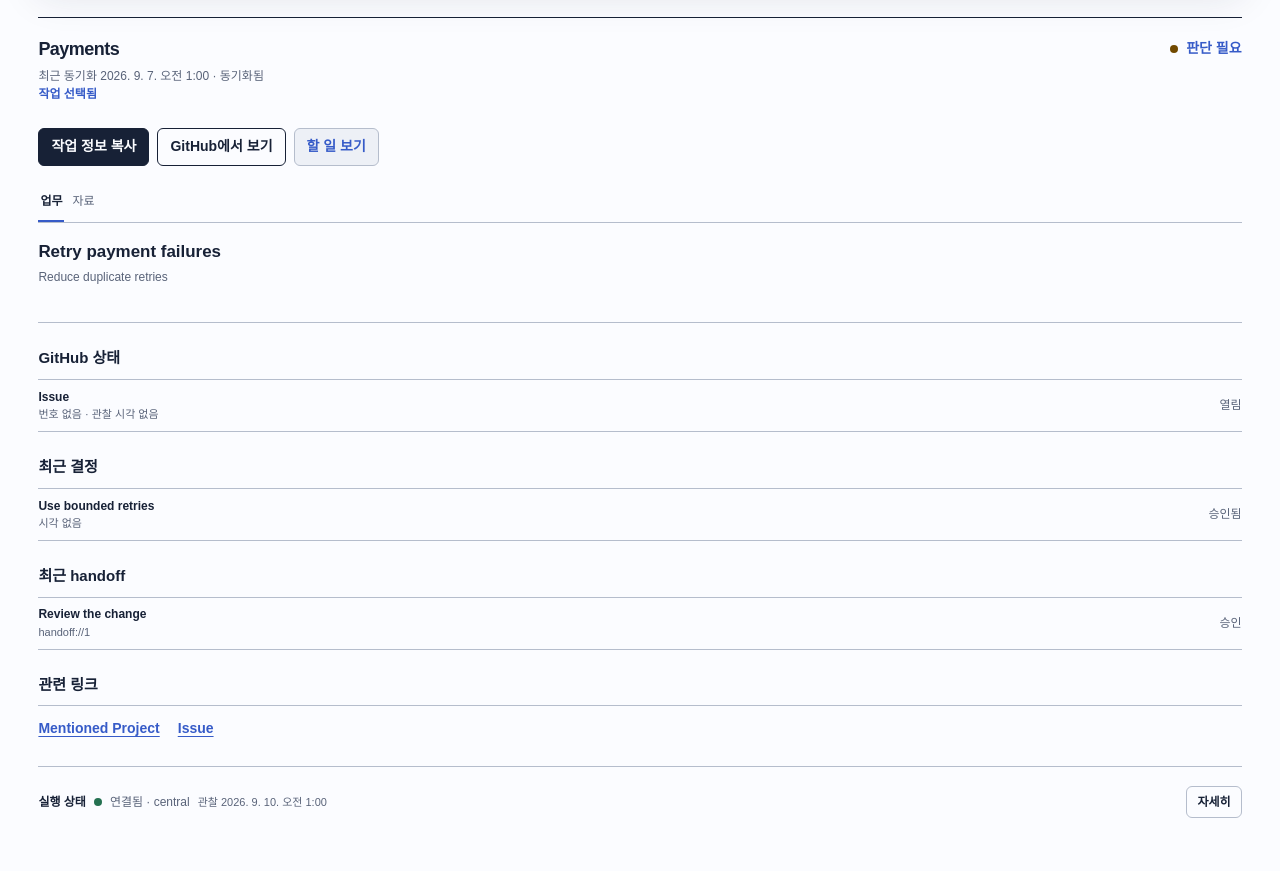
Test: monitor list and detail › does not treat an evidence-only project link as a Project binding
(page scrolled)
Click the button "자세히" at (1214, 802), box [1186, 786, 1242, 818]
(page scrolled)
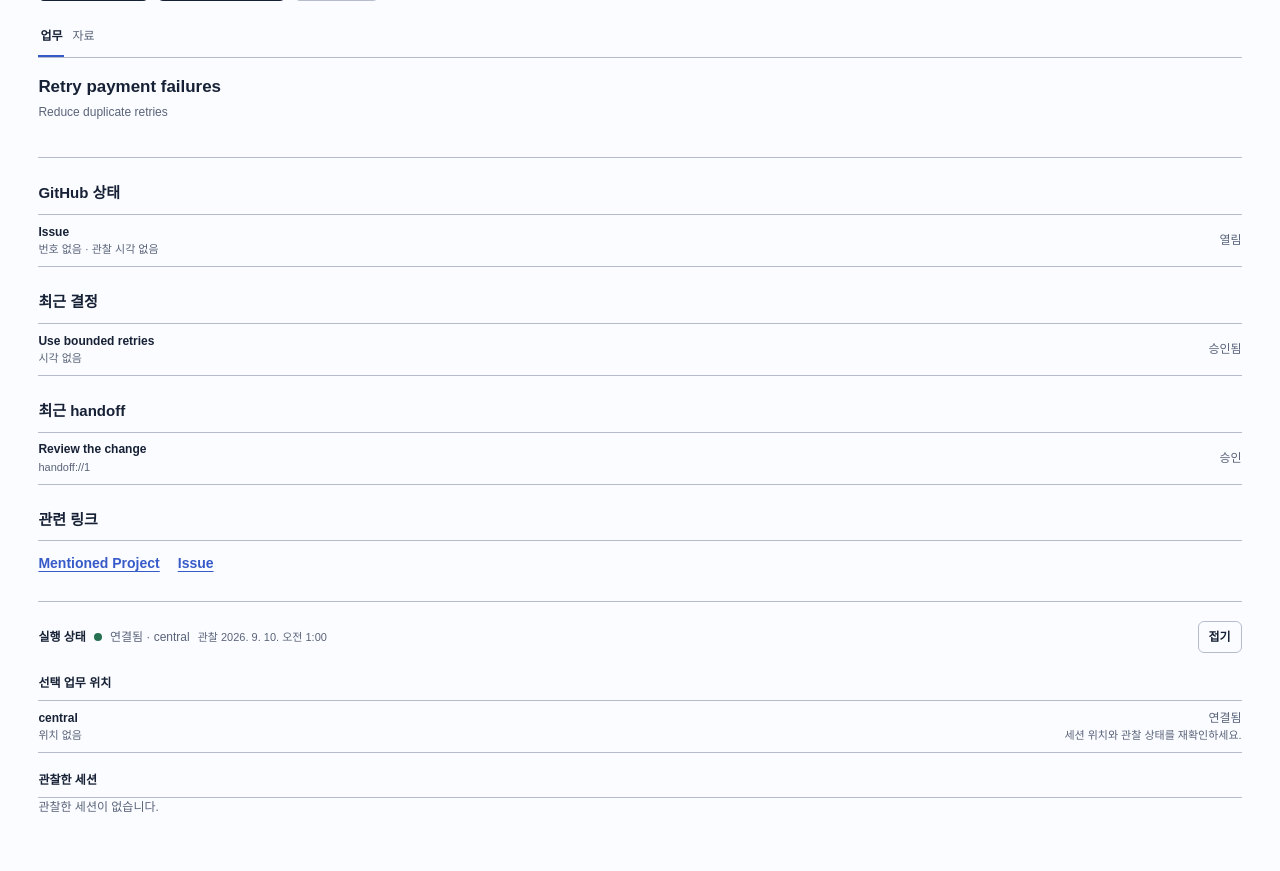
Expected: the text "central" is shown, [38, 711, 78, 725]
